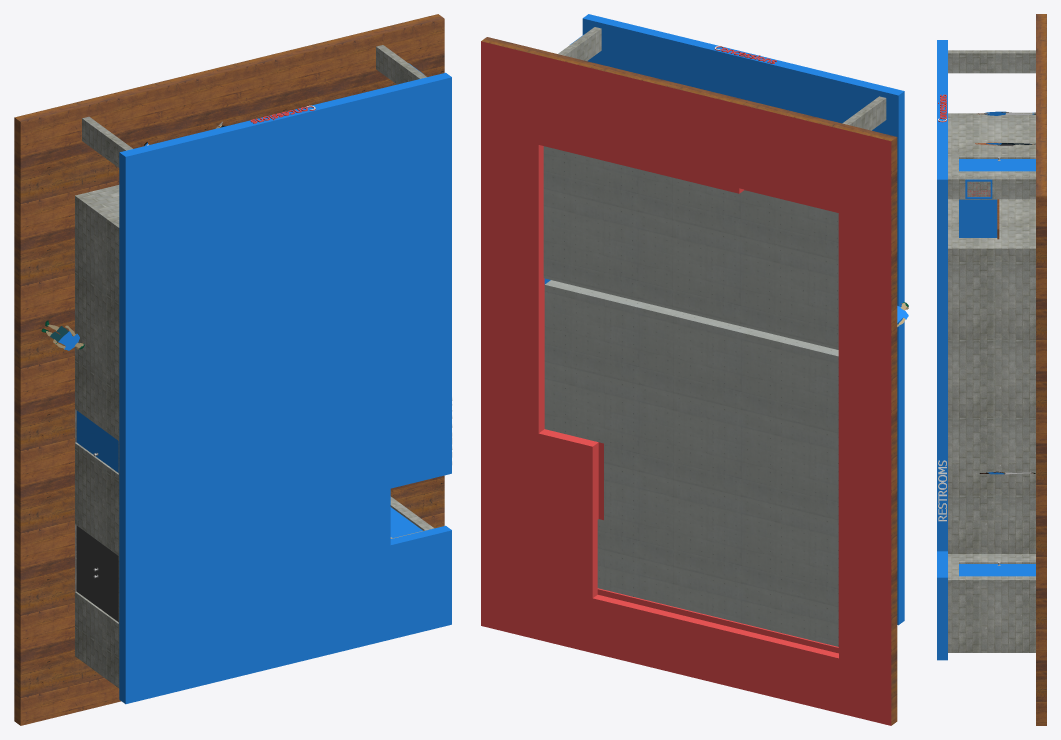
File: stand.fbx
The picture shows the model from 3 angles, left to right: view 1: azimuth 30°, elevation 25°; view 2: azimuth 150°, elevation 25°; view 3: azimuth 270°, elevation 25°; orthographic projection. The views are drawn at different scales.
Parts seen in each view (by area): view 1: Group#3 0098_DodgerBlue, Group#2 fine wood, Group#2 BrickLargeBare0043_4_S, Group#10, Group#8 0098_DodgerBlue, Group#10 2; view 2: Group#2 Layer0, Group#2 TexturesCom_ConcreteNew0056_1_seamless_S, Group#3 0098_DodgerBlue, Group#2 fine wood, Group#2 BrickLargeBare0043_4_S; view 3: Group#2 BrickLargeBare0043_4_S, Group#2 fine wood, Group#3 0098_DodgerBlue, Group#2 0098_DodgerBlue, Group#8 2 0098_DodgerBlue, Group#5 0098_DodgerBlue, RESTROOMS, Group#9 0098_DodgerBlue.
Part boxes in pixels (x1=…): Group#3 0098_DodgerBlue: x1=119, y1=72, x2=451, y2=704; Group#2 fine wood: x1=14, y1=14, x2=444, y2=725; Group#2 BrickLargeBare0043_4_S: x1=75, y1=45, x2=434, y2=688; Group#10: x1=76, y1=558, x2=118, y2=621; Group#8 0098_DodgerBlue: x1=76, y1=410, x2=118, y2=472; Group#10 2: x1=76, y1=525, x2=118, y2=587; Group#2 Layer0: x1=481, y1=41, x2=891, y2=725; Group#2 TexturesCom_ConcreteNew0056_1_seamless_S: x1=543, y1=146, x2=838, y2=646; Group#3 0098_DodgerBlue: x1=582, y1=14, x2=904, y2=625; Group#2 fine wood: x1=481, y1=37, x2=897, y2=725; Group#2 BrickLargeBare0043_4_S: x1=558, y1=27, x2=886, y2=130; Group#2 BrickLargeBare0043_4_S: x1=948, y1=50, x2=1035, y2=652; Group#2 fine wood: x1=1036, y1=14, x2=1046, y2=725; Group#3 0098_DodgerBlue: x1=937, y1=40, x2=947, y2=660; Group#2 0098_DodgerBlue: x1=959, y1=199, x2=997, y2=237; Group#8 2 0098_DodgerBlue: x1=959, y1=159, x2=1035, y2=171; Group#5 0098_DodgerBlue: x1=959, y1=564, x2=1035, y2=576; RESTROOMS: x1=938, y1=460, x2=946, y2=521; Group#9 0098_DodgerBlue: x1=965, y1=179, x2=992, y2=198.
Size of the model in its own units: 470 by 640 by 120.
